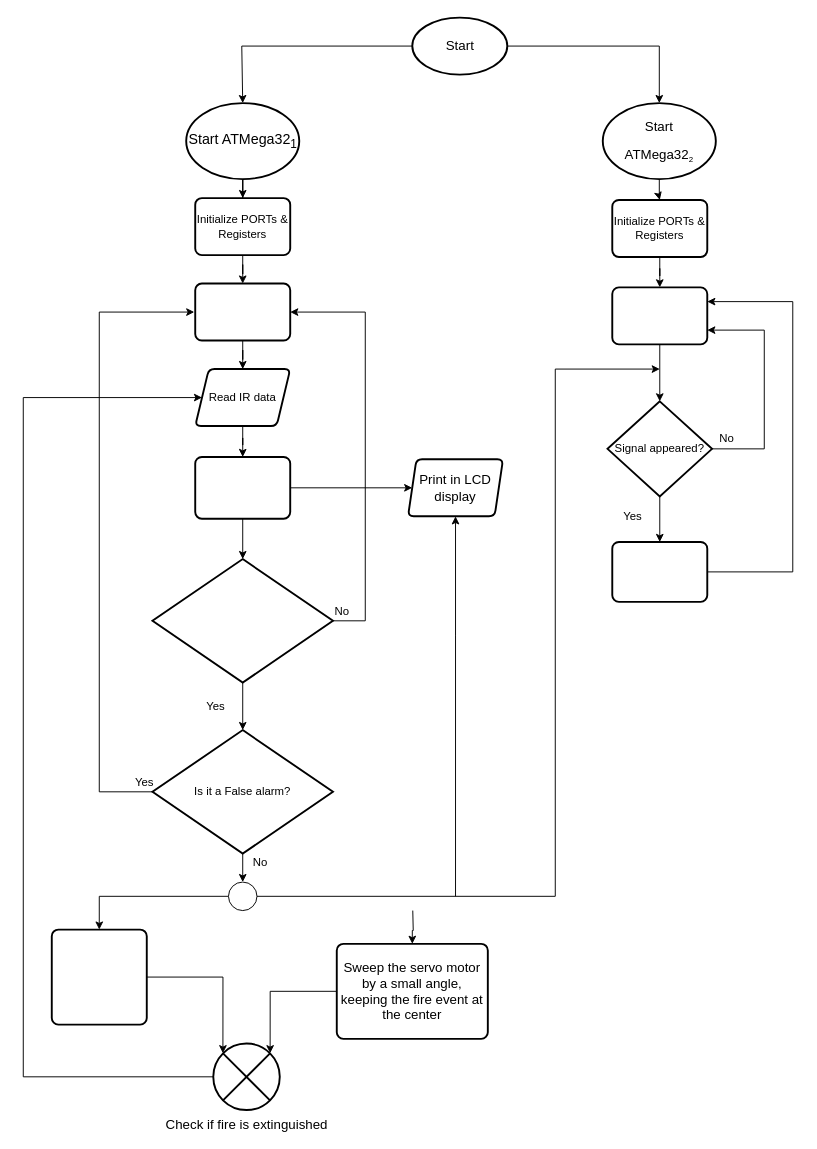
This 817x1149 diagram has some shape labels left out. The shapes that lost their labels are listed below. From the top down, each one's box as (x1, y1, x2, y2) in pixels, then its label:
(194, 282, 291, 341): Sweep Servo Motor
(611, 286, 708, 345): Wait for fire signal
(194, 456, 291, 519): Analog-to-Digital conversion
(611, 541, 708, 602): Send SMS from GSM module
(151, 558, 333, 683): IR_data < FIRE_THRESHOLD (Any fire alarm?)
(50, 928, 147, 1025): Turn on DC motor and Throw water
